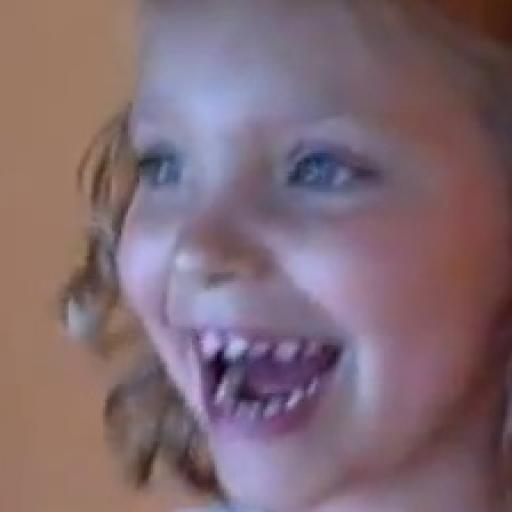Autism: (113, 29, 512, 512)
